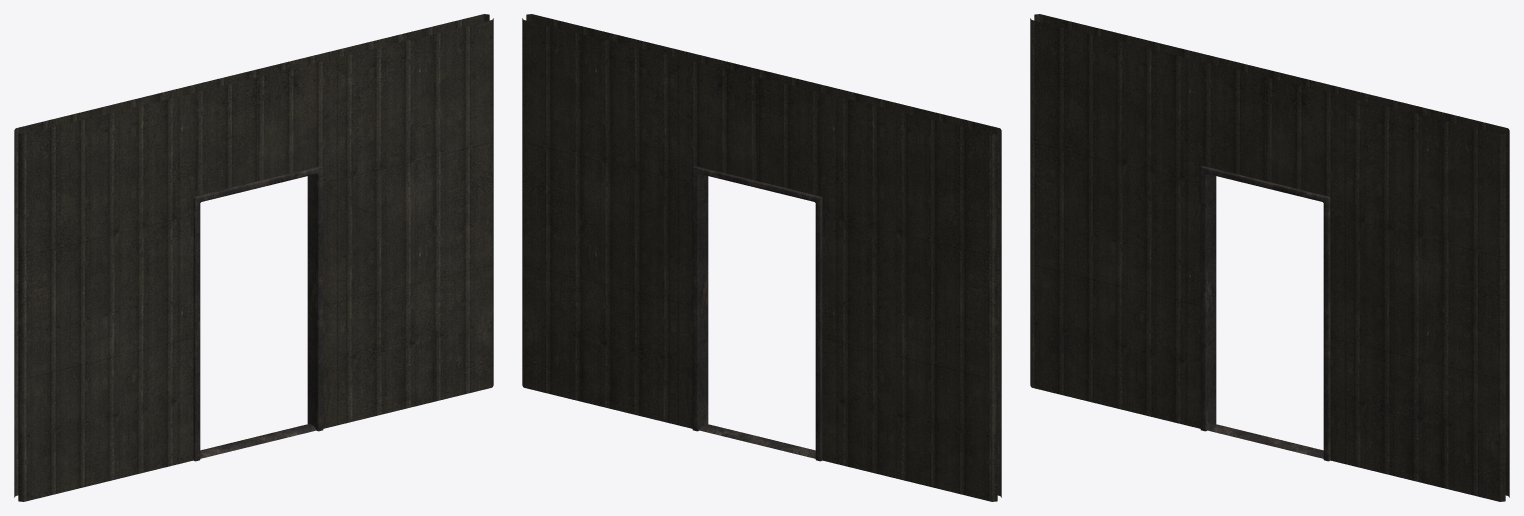
File: doorway_1_plain.obj
3 views of the same model, side by side, from view 1: azimuth 30°, elevation 25°; view 2: azimuth 150°, elevation 25°; view 3: azimuth 330°, elevation 25° (orthographic).
Visible parts, largest first — view 1: doorway_1_plain; view 2: doorway_1_plain; view 3: doorway_1_plain.
Boxes of the visible parts, left/top/right/bottom form: doorway_1_plain: left=14, top=14, right=493, bottom=501; doorway_1_plain: left=522, top=14, right=1001, bottom=501; doorway_1_plain: left=1030, top=14, right=1509, bottom=501.
Size of the model in its own units: 4.06 by 3 by 0.16.
